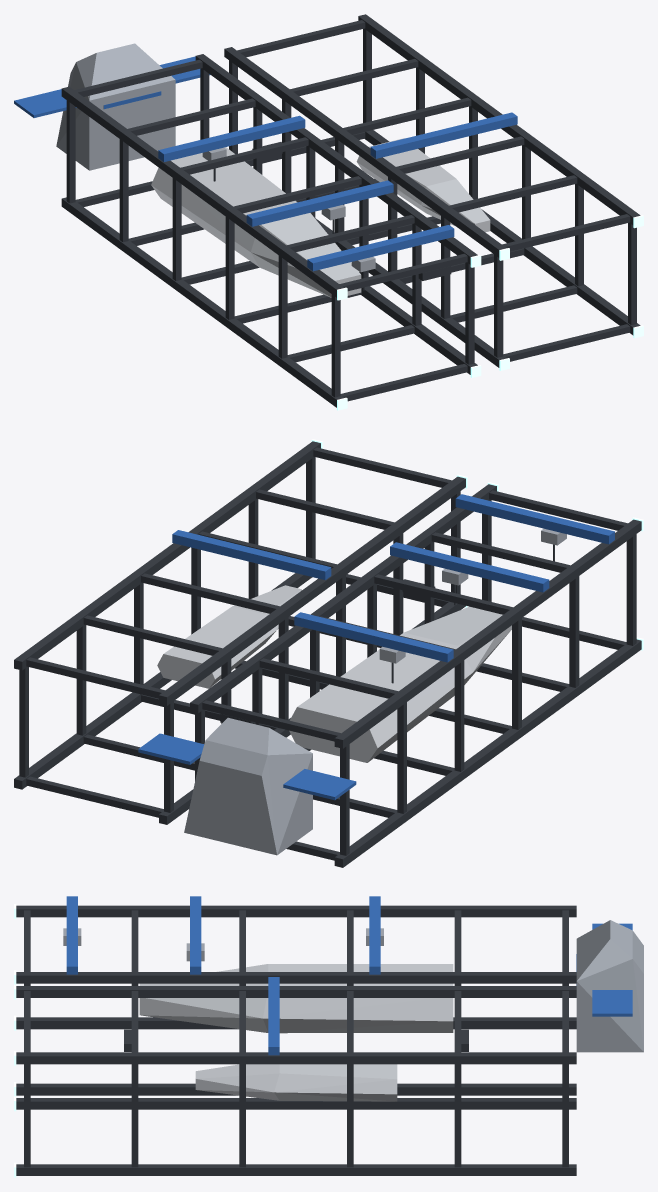
File: Shipyard_L3.glb
3 renders of one model, top to bottom at view 1: azimuth 30°, elevation 25°; view 2: azimuth 150°, elevation 25°; view 3: azimuth 270°, elevation 25°, orthographic. The views are drawn at different scales.
Parts seen in each view (by area): view 1: hull_in_progress, control_block, frame_beam_R1, frame_beam_1, frame_beam_3, frame_beam_R0, frame_beam_0, hull_in_progress_R, frame_beam_R2, gantry_1, gantry_R, gantry_2 (+41 smaller); view 2: control_block, hull_in_progress, frame_beam_R1, frame_beam_1, frame_beam_3, frame_beam_R0, frame_beam_0, hull_in_progress_R, frame_beam_R2, gantry_0, gantry_1, gantry_2 (+40 smaller); view 3: hull_in_progress, control_block, frame_beam_R0, frame_beam_R2, frame_beam_1, frame_beam_0, hull_in_progress_R, frame_beam_R1, frame_beam_R3, frame_beam_2, frame_beam_3, radiator_R (+22 smaller).
Boxes of the visible parts, left/top/right/bottom form: hull_in_progress: left=151, top=147, right=361, bottom=297; control_block: left=56, top=43, right=175, bottom=170; frame_beam_R1: left=224, top=47, right=506, bottom=257; frame_beam_1: left=61, top=86, right=343, bottom=297; frame_beam_3: left=61, top=197, right=343, bottom=407; frame_beam_R0: left=358, top=14, right=640, bottom=224; frame_beam_0: left=195, top=54, right=477, bottom=264; hull_in_progress_R: left=356, top=138, right=490, bottom=232; frame_beam_R2: left=364, top=130, right=640, bottom=335; gantry_1: left=246, top=180, right=393, bottom=226; gantry_R: left=370, top=112, right=517, bottom=158; gantry_2: left=307, top=225, right=454, bottom=271; control_block: left=184, top=717, right=312, bottom=855; hull_in_progress: left=289, top=606, right=511, bottom=762; frame_beam_R1: left=159, top=476, right=465, bottom=705; frame_beam_1: left=334, top=519, right=641, bottom=748; frame_beam_3: left=334, top=639, right=641, bottom=867; frame_beam_R0: left=14, top=441, right=320, bottom=670; frame_beam_0: left=190, top=484, right=496, bottom=713; hull_in_progress_R: left=157, top=585, right=301, bottom=688; frame_beam_R2: left=14, top=573, right=312, bottom=789; gantry_0: left=294, top=612, right=453, bottom=662; gantry_1: left=390, top=542, right=549, bottom=592; gantry_2: left=455, top=494, right=614, bottom=544; hull_in_progress: left=139, top=964, right=453, bottom=1033; control_block: left=576, top=920, right=643, bottom=1052; frame_beam_R0: left=16, top=1052, right=576, bottom=1064; frame_beam_R2: left=16, top=1164, right=576, bottom=1175; frame_beam_1: left=16, top=905, right=576, bottom=917; frame_beam_0: left=16, top=972, right=576, bottom=983; hull_in_progress_R: left=195, top=1064, right=397, bottom=1101; frame_beam_R1: left=16, top=986, right=576, bottom=997; frame_beam_R3: left=16, top=1098, right=576, bottom=1109; frame_beam_2: left=16, top=1083, right=576, bottom=1095; frame_beam_3: left=16, top=1017, right=576, bottom=1029; radiator_R: left=592, top=990, right=632, bottom=1016.
Size of the model in its own units: 442 by 169 by 731.
